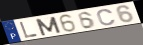6: (115, 5, 136, 24), (77, 11, 97, 30), (59, 13, 78, 33)
C: (96, 8, 117, 26)
L: (19, 21, 40, 39)
M: (34, 16, 63, 37)
